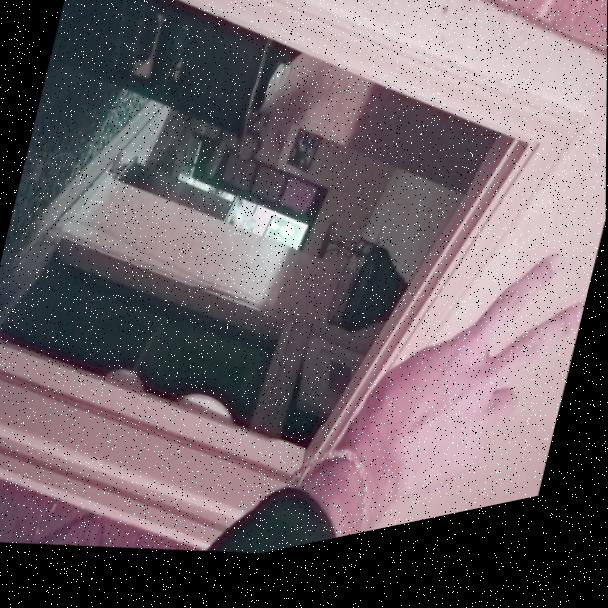two: (303, 215, 599, 558)
